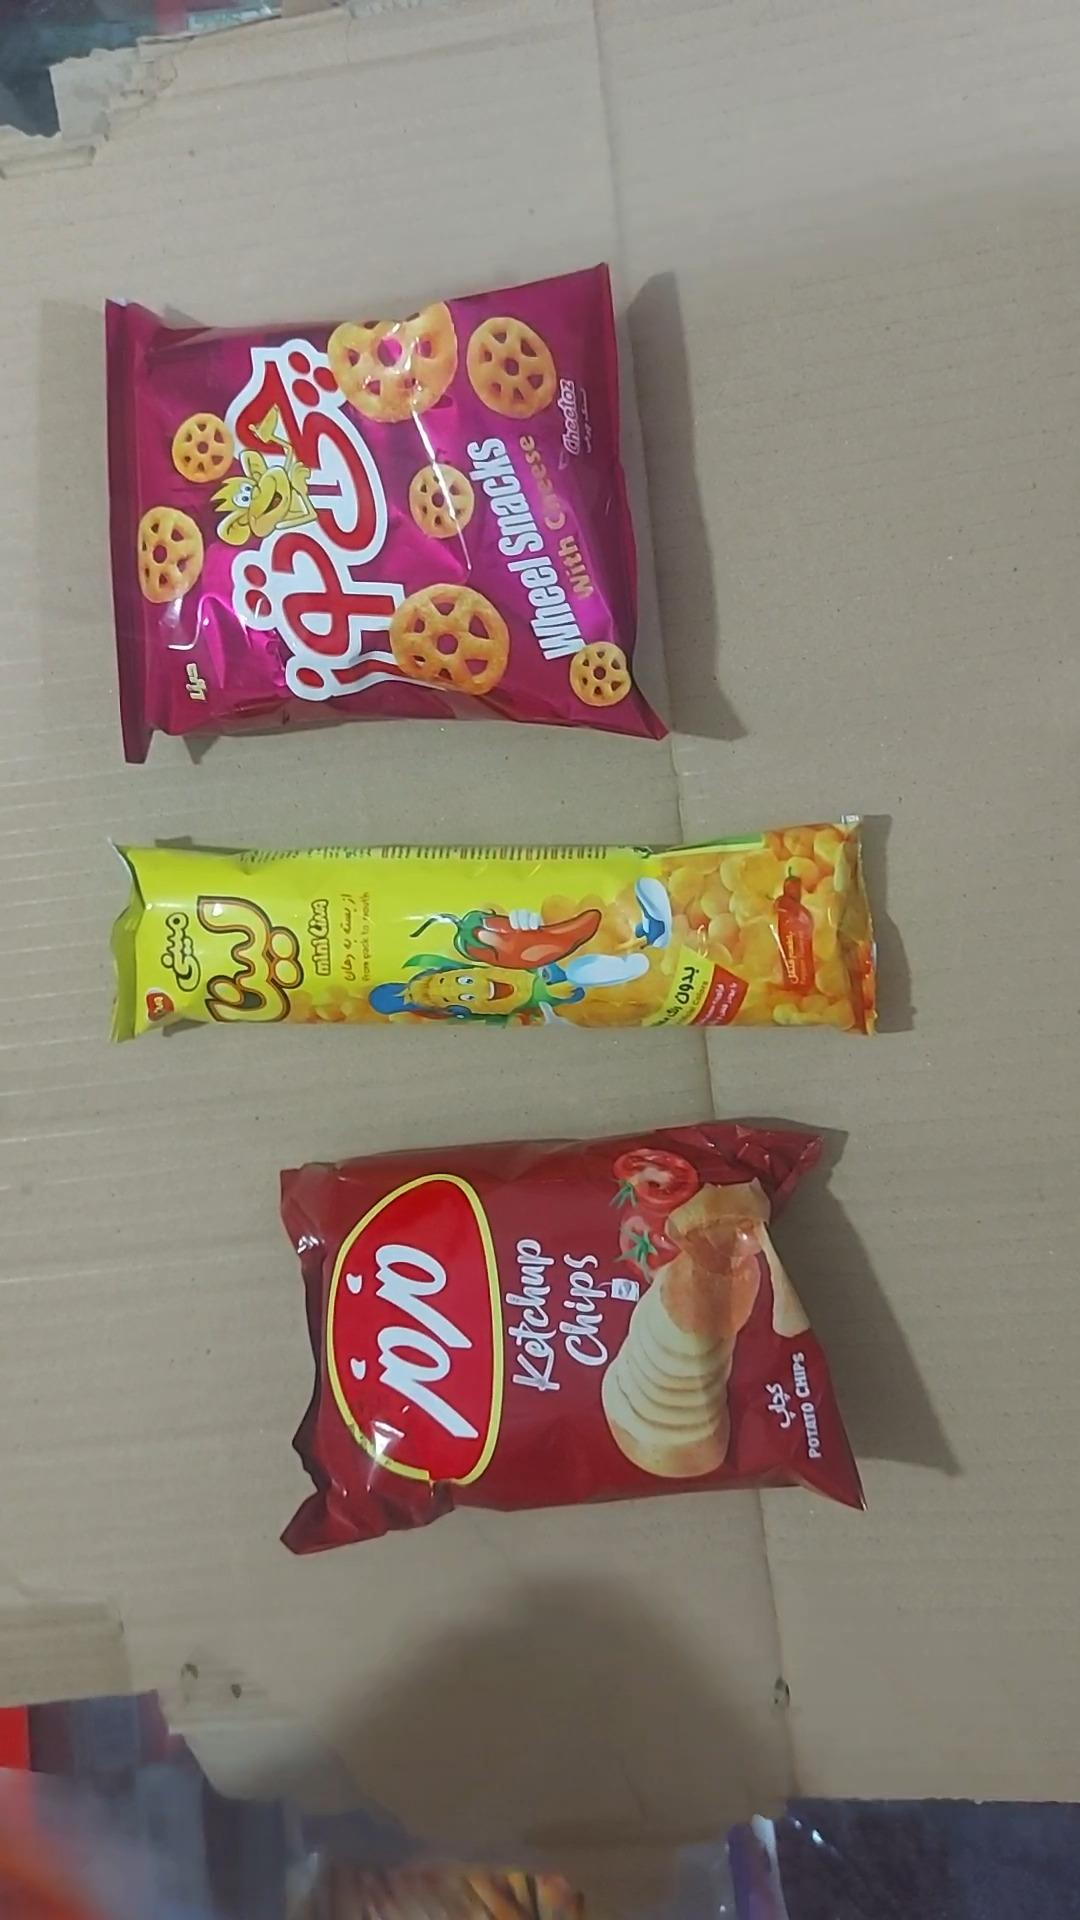Cheetoz wheelsnack: (105, 266, 665, 761)
Maz Maz ketchup chips: (281, 1124, 862, 1555)
Mini Lina: (111, 820, 876, 1040)
